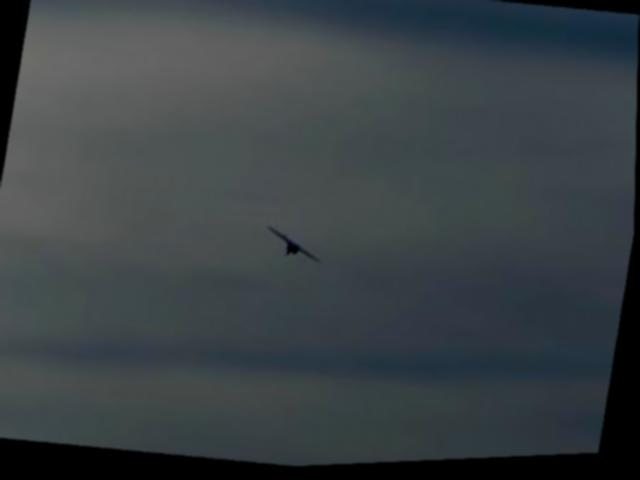uav: (261, 221, 331, 269)
